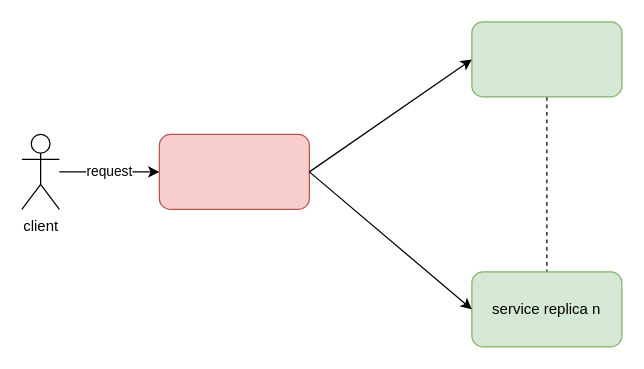
Image size: 644x369. Some labels were removed from this diagram. The box of each missing label's shape, as (x1, y1, x2, y2) in pixels:
Load Balancer: (158, 133, 309, 209)
service replica 1: (471, 21, 622, 97)
